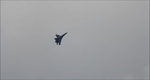maybay_muctieu: (54, 32, 69, 46)
